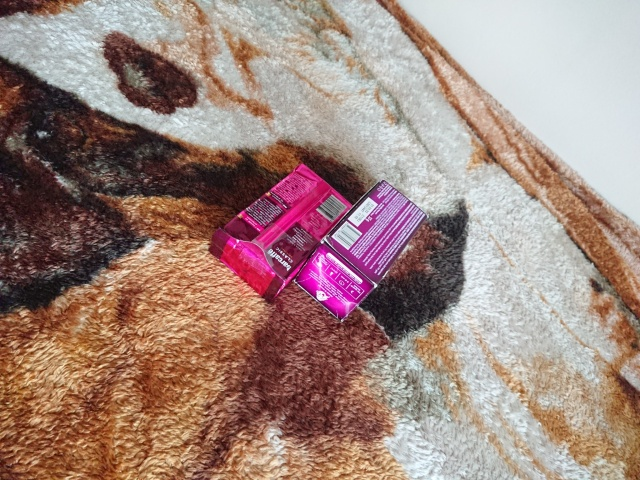Barcaffe Classic Original 225g: (206, 160, 357, 309)
Franck Black Currant Tea 60g: (291, 178, 429, 326)
